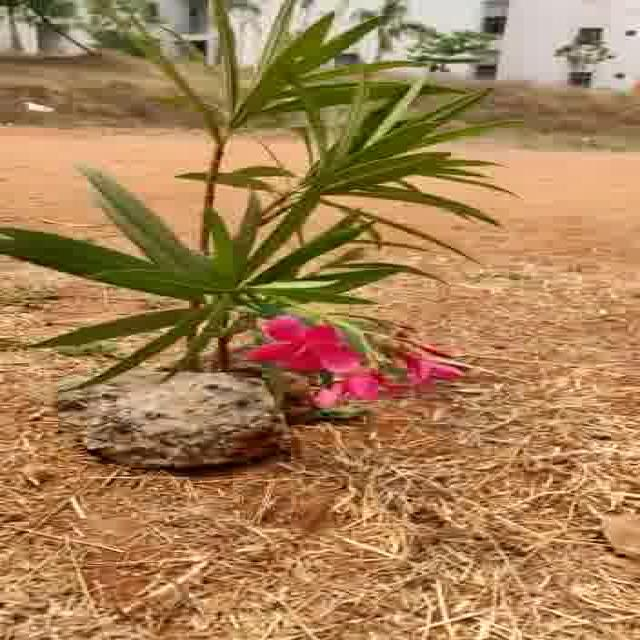Oleander: (40, 0, 499, 369)
